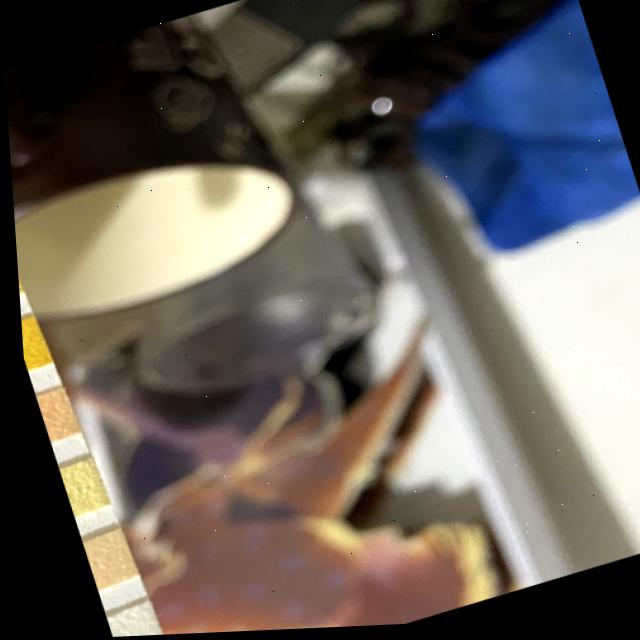Blood: (17, 316, 40, 367)
Nitrite: (97, 608, 152, 638)
Protein: (53, 463, 99, 516)
Urobilinogen: (75, 535, 127, 587)
pH: (30, 391, 69, 440)
